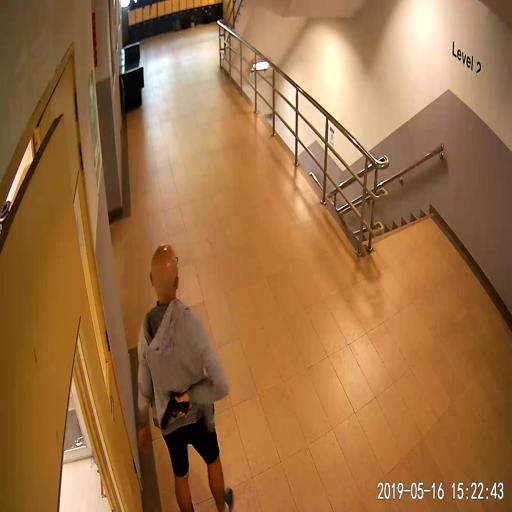pistol: (161, 391, 189, 429)
